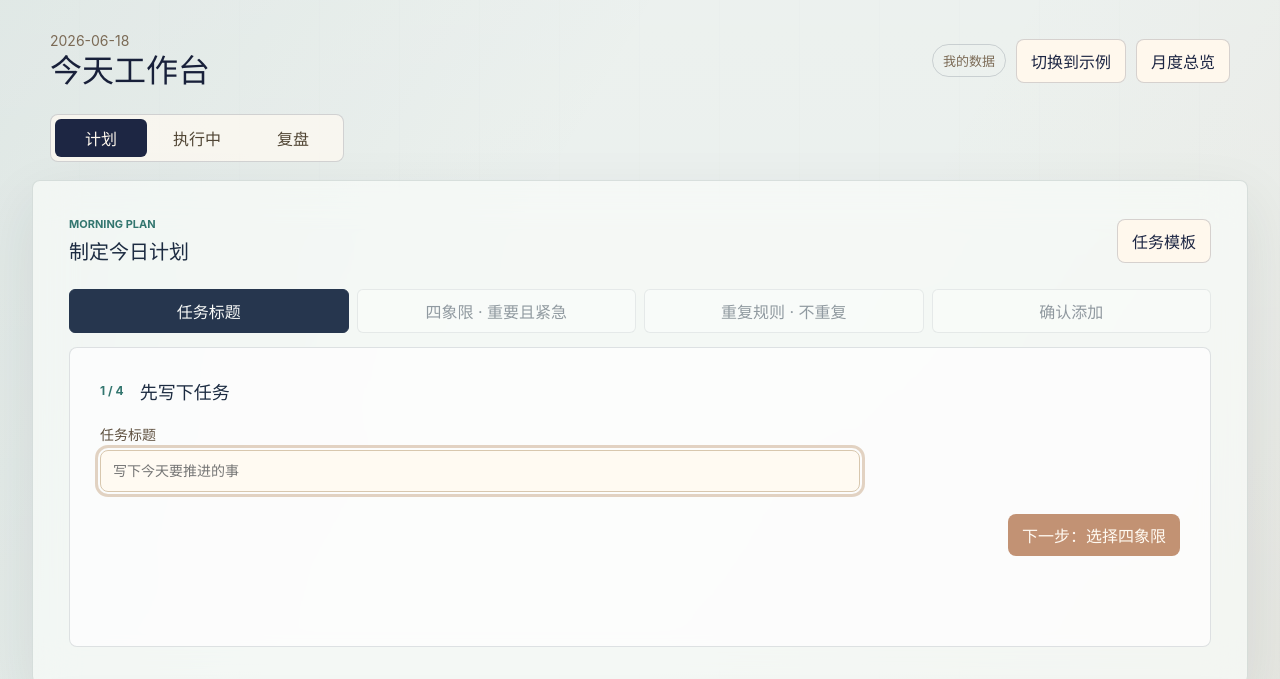
DailyWorkspace › switches from folder view to galaxy view
Click the button "执行中". click: (197, 138)
box: x1=151 y1=119 x2=243 y2=157
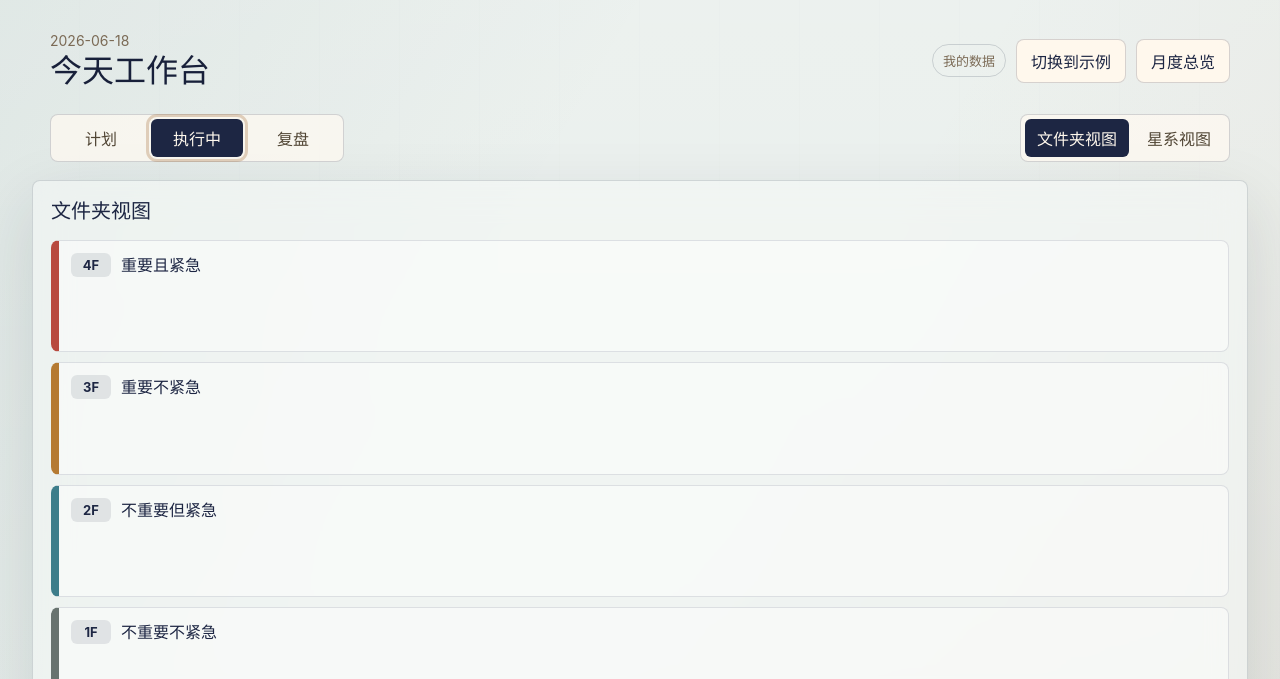
expect the heading "文件夹视图" is shown: met, box x1=51 y1=199 x2=151 y2=223
Click the button "星系视图". click: (1179, 138)
box: x1=1133 y1=119 x2=1225 y2=157
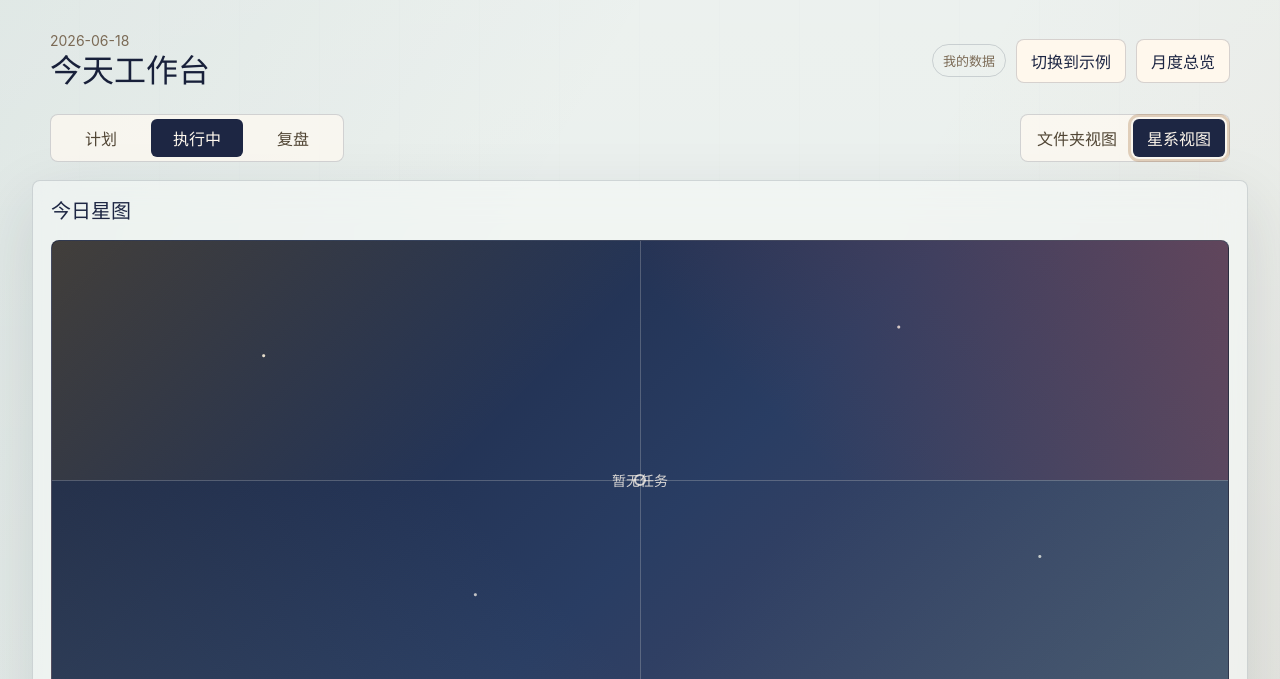
expect the heading "今日星图" is shown: met, box x1=51 y1=199 x2=131 y2=223
